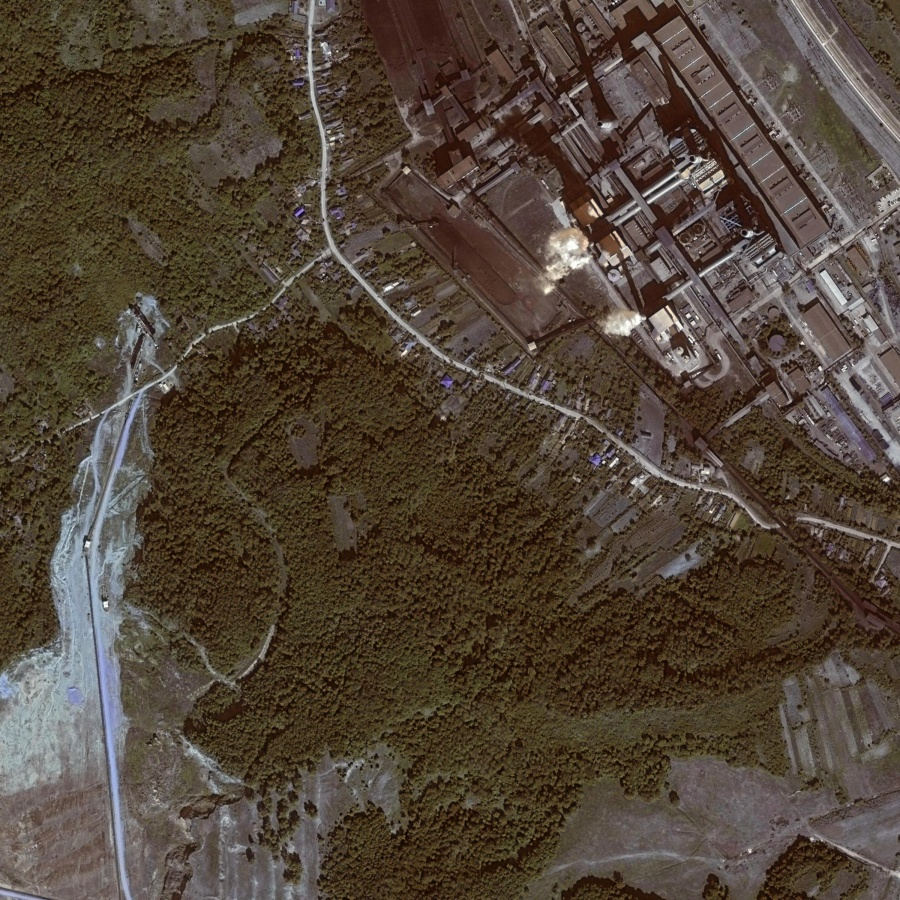PowerPlant: (429, 136, 644, 365)
